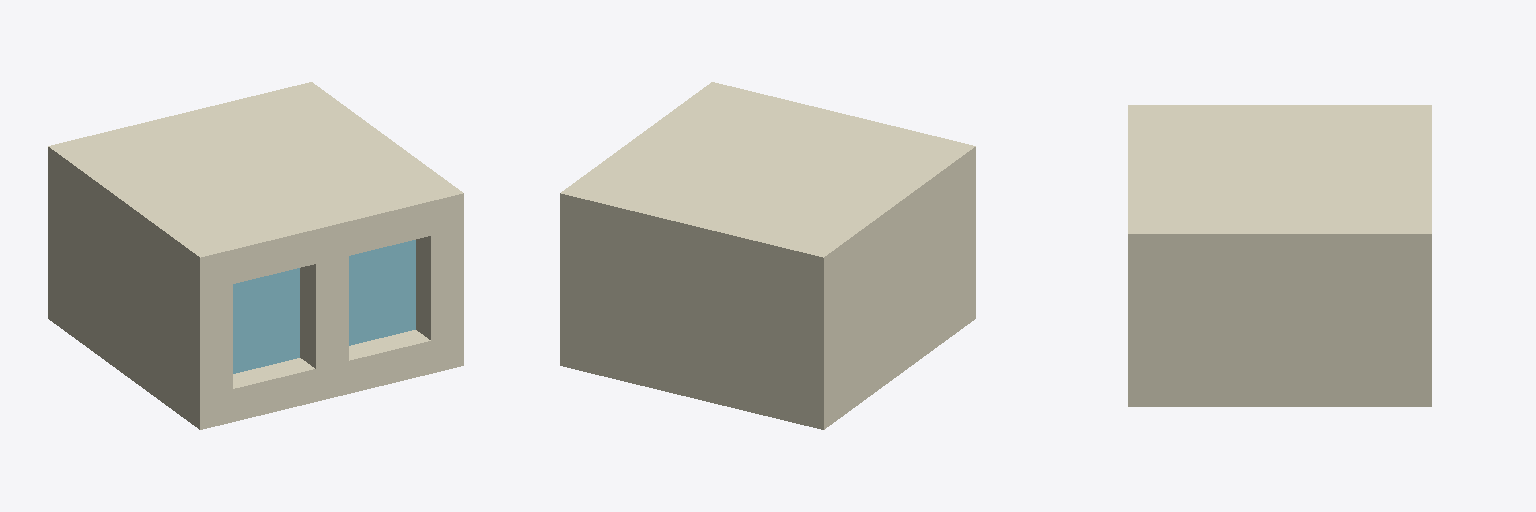
Rendered from houseFloor1.obj.
3 views of the same model, side by side, from view 1: azimuth 30°, elevation 25°; view 2: azimuth 150°, elevation 25°; view 3: azimuth 270°, elevation 25° (orthographic).
Parts seen in each view (by area): view 1: Mesh1_Group1_Model.010; view 2: Mesh1_Group1_Model.010; view 3: Mesh1_Group1_Model.010.
Part boxes in pixels (left/top/right/bottom): Mesh1_Group1_Model.010: left=48, top=82, right=463, bottom=429; Mesh1_Group1_Model.010: left=560, top=82, right=975, bottom=429; Mesh1_Group1_Model.010: left=1128, top=105, right=1431, bottom=406.
Bounding box in the file's own units: 1 × 0.625 × 1.